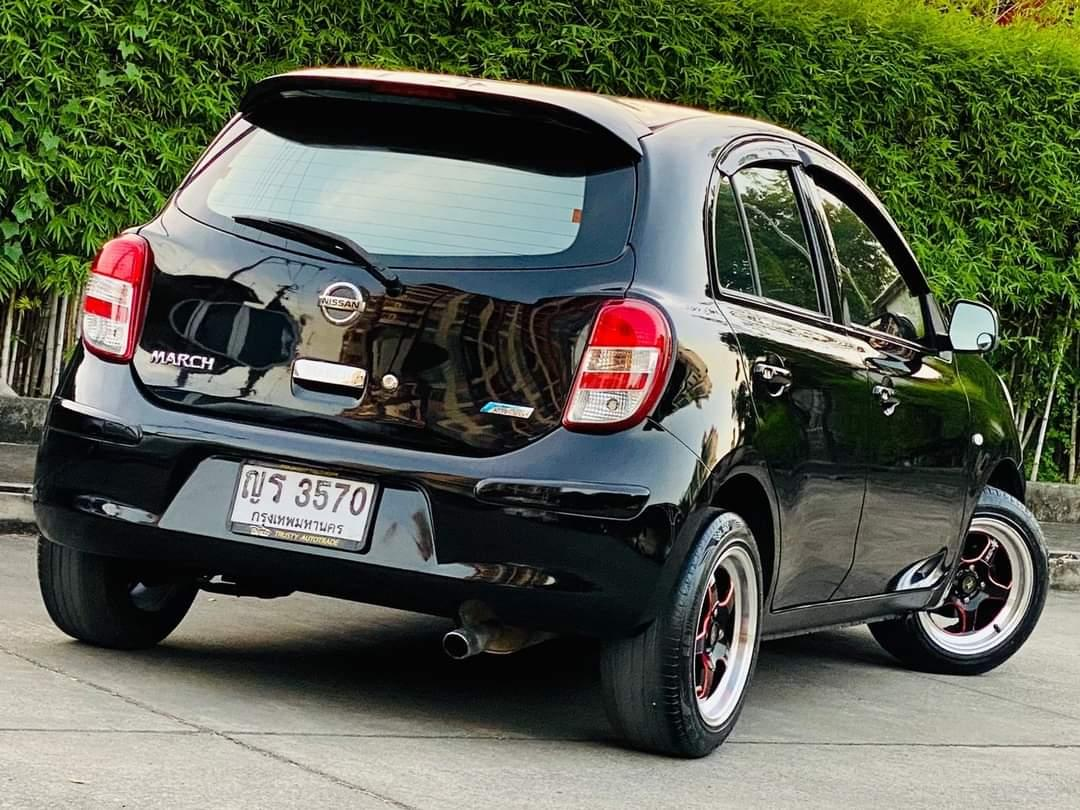license-plate: (219, 448, 388, 557)
